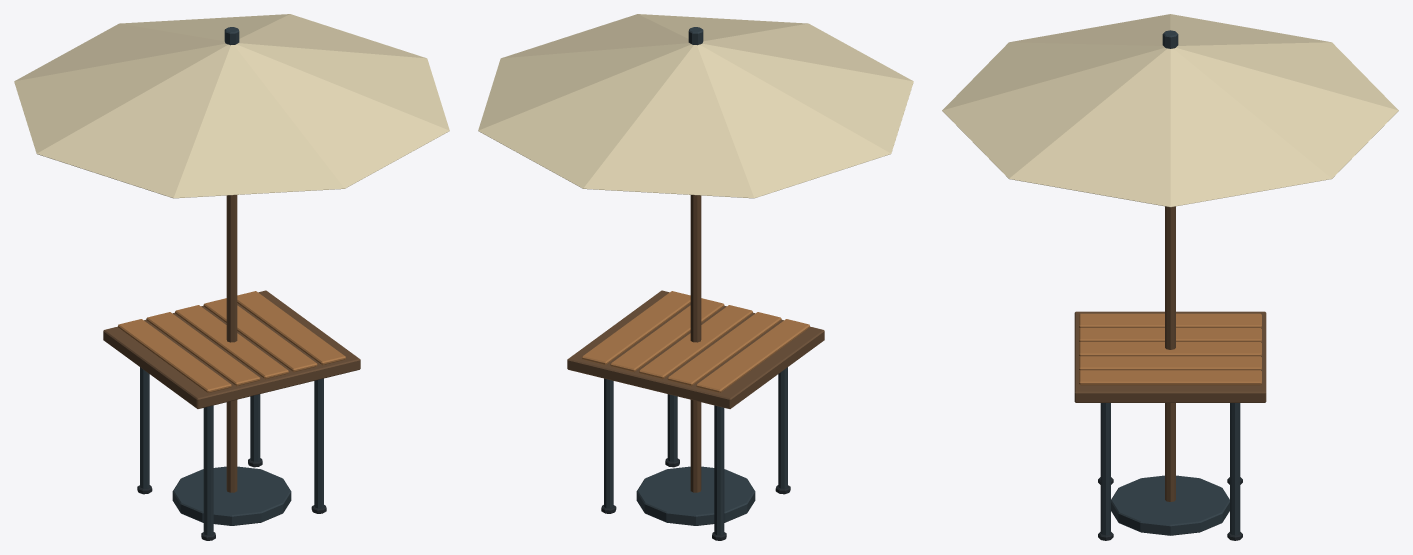
Rendered from b10_square_cafe_umbrella_table.glb.
The picture shows the model from 3 angles, left to right: view 1: azimuth 30°, elevation 25°; view 2: azimuth 150°, elevation 25°; view 3: azimuth 270°, elevation 25°; orthographic projection.
Visible parts, largest first — view 1: b10_square_cafe_umbrella_table; view 2: b10_square_cafe_umbrella_table; view 3: b10_square_cafe_umbrella_table.
Boxes of the visible parts, <box> form: b10_square_cafe_umbrella_table: <box>14,14,449,540</box>; b10_square_cafe_umbrella_table: <box>478,14,913,540</box>; b10_square_cafe_umbrella_table: <box>942,14,1398,540</box>.
Size of the model in its own units: 2.05 by 2.37 by 2.05.
